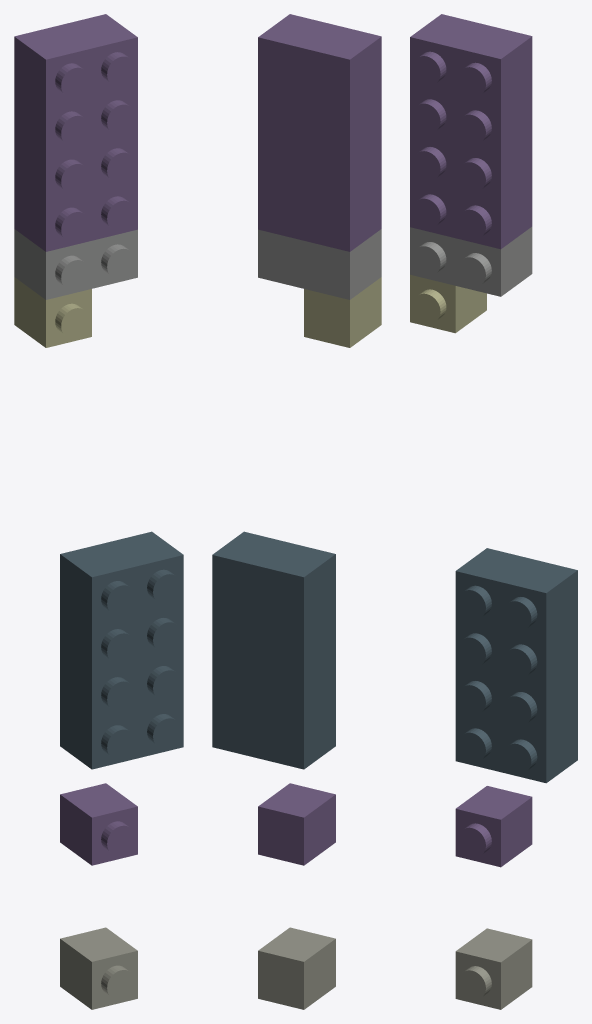
Rendered from current.glb.
The picture shows the model from 3 angles, left to right: view 1: azimuth 30°, elevation 25°; view 2: azimuth 150°, elevation 25°; view 3: azimuth 330°, elevation 25°; orthographic projection.
Parts seen in each view (by area): view 1: world; view 2: world; view 3: world.
Part boxes in pixels (x1,y1,x2,y2): world: [14, 14, 183, 1009]; world: [212, 14, 381, 1009]; world: [410, 14, 577, 1009].
Size of the model in its own units: 24 by 160 by 11.4.
